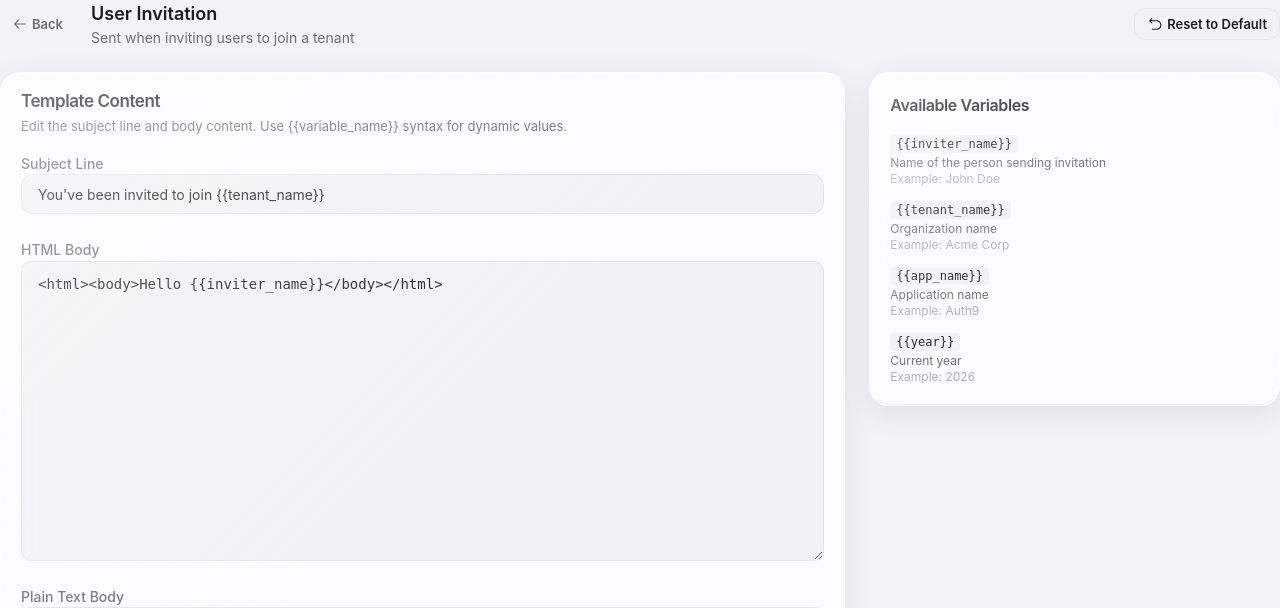
Email Template Editor Page › opens reset confirmation dialog
Click the button "Reset to Default" at (1207, 24), box [1134, 8, 1279, 40]
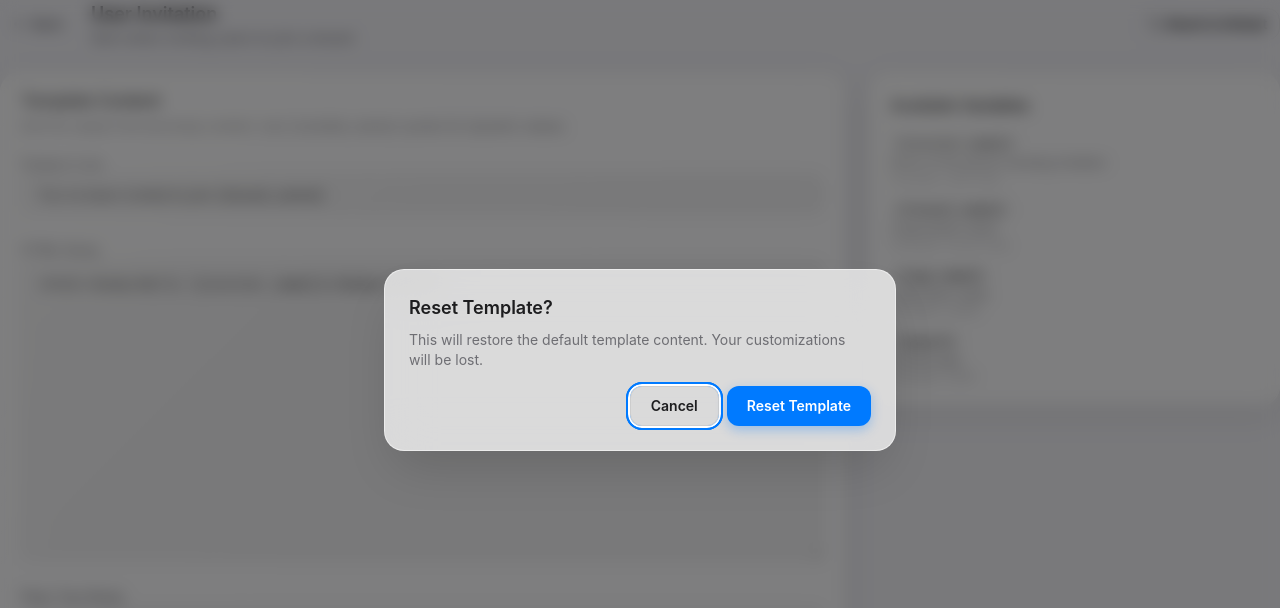
Check: the heading "Reset Template?" is shown, box [409, 297, 553, 318]
Check: the text "This will restore the default template content" is shown, box [409, 331, 846, 368]
